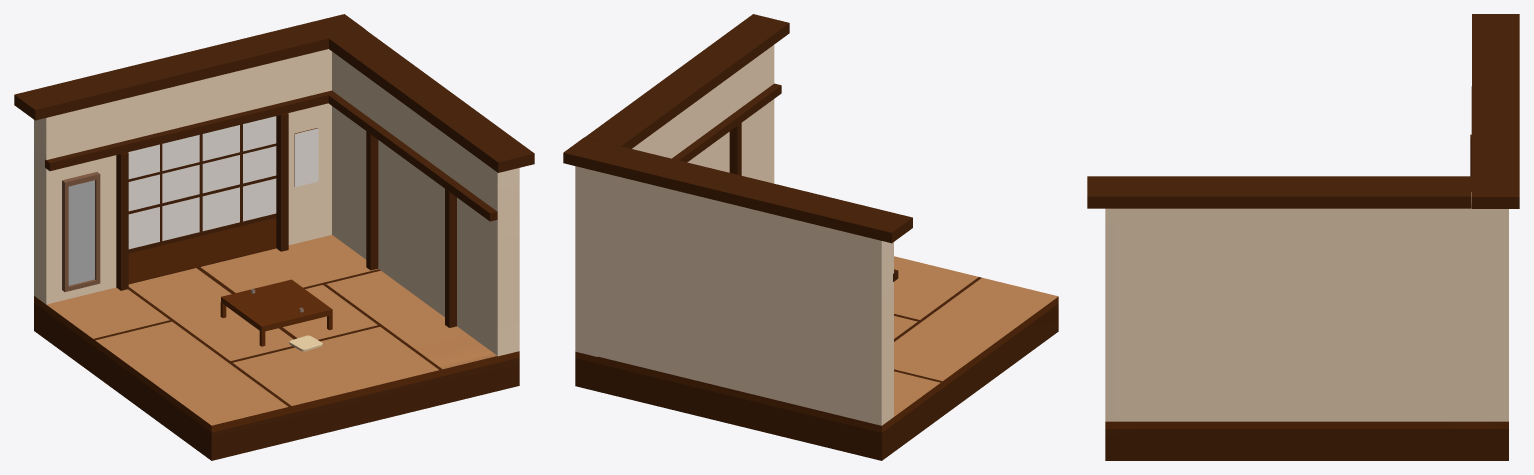
The model's file is isometric_japanese_room.glb.
3 views of the same model, side by side, from view 1: azimuth 30°, elevation 25°; view 2: azimuth 150°, elevation 25°; view 3: azimuth 270°, elevation 25° (orthographic). The views are drawn at different scales.
Visible parts, largest first — view 1: Cube.013; view 2: Cube.013; view 3: Cube.013.
Part boxes in pixels (left/top/right/bottom): Cube.013: left=14, top=14, right=534, bottom=460; Cube.013: left=563, top=14, right=1058, bottom=460; Cube.013: left=1087, top=14, right=1519, bottom=460.
Bounding box in the file's own units: 6.12 × 4.18 × 6.12.
Materials: 1 (1 with a texture image).
